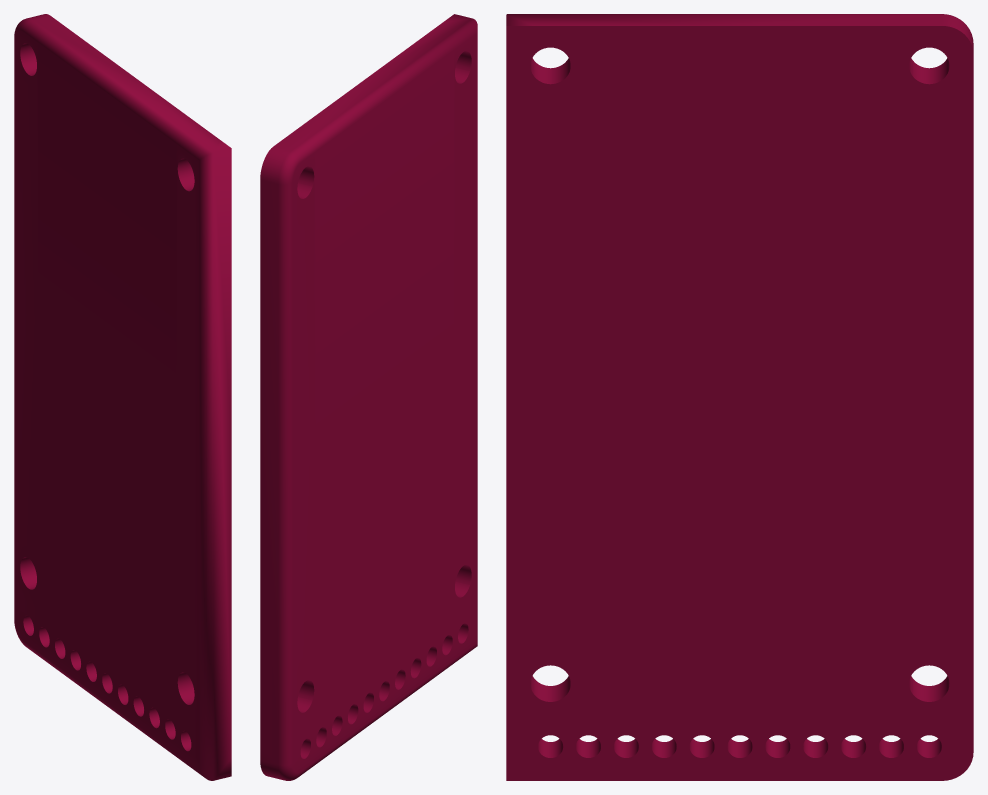
The model's file is uchwyt_lew_ciezarek_mirror_cover.obj.
3 views of the same model, side by side, from view 1: azimuth 30°, elevation 25°; view 2: azimuth 150°, elevation 25°; view 3: azimuth 270°, elevation 25° (orthographic). The views are drawn at different scales.
Visible parts, largest first — view 1: uchwyt_lewy_ciezarek_mirror_cover; view 2: uchwyt_lewy_ciezarek_mirror_cover; view 3: uchwyt_lewy_ciezarek_mirror_cover.
Boxes of the visible parts, x1,y1,x2,y2 form: uchwyt_lewy_ciezarek_mirror_cover: (14, 14, 231, 780); uchwyt_lewy_ciezarek_mirror_cover: (260, 14, 477, 780); uchwyt_lewy_ciezarek_mirror_cover: (506, 14, 973, 780).
Size of the model in its own units: 3 by 66 by 37.
